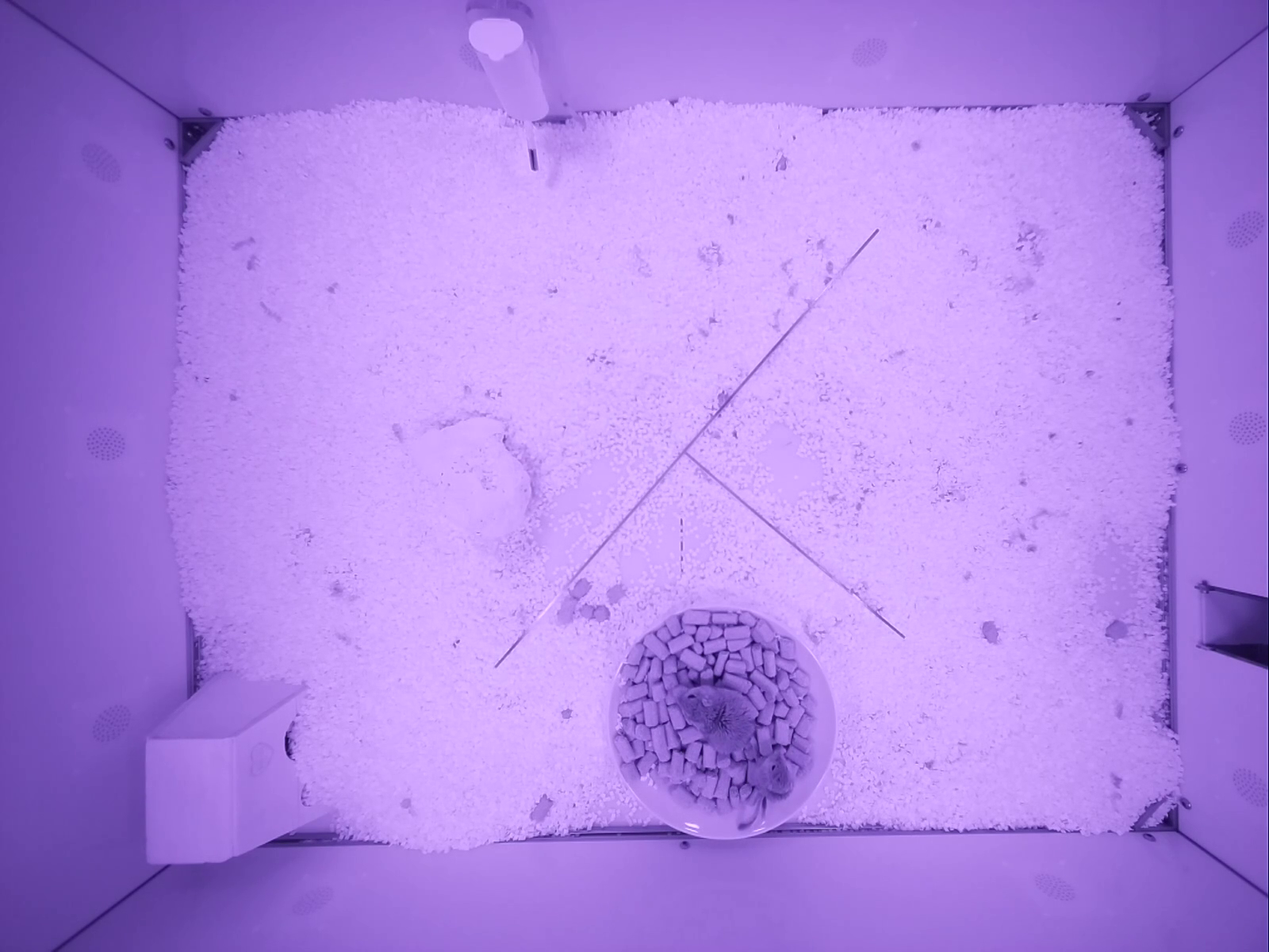adult_back: (674, 685, 757, 754), (738, 750, 793, 829)
